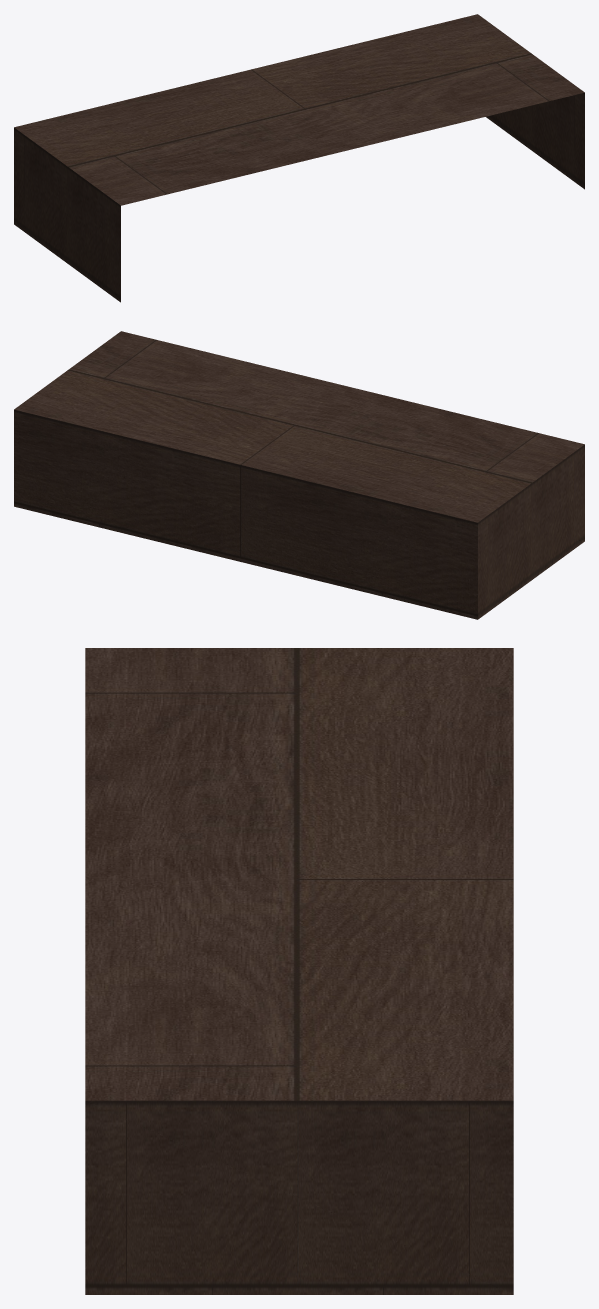
Rendered from Step.fbx.
3 views of the same model, one above another, from view 1: azimuth 30°, elevation 25°; view 2: azimuth 150°, elevation 25°; view 3: azimuth 270°, elevation 25° (orthographic). The views are drawn at different scales.
Visible parts, largest first — view 1: Step; view 2: Step; view 3: Step.
Boxes of the visible parts, <box> form: Step: <box>14,14,584,302</box>; Step: <box>14,331,584,619</box>; Step: <box>85,648,513,1294</box>.
Bounding box in the file's own units: 100 × 20 × 40.
